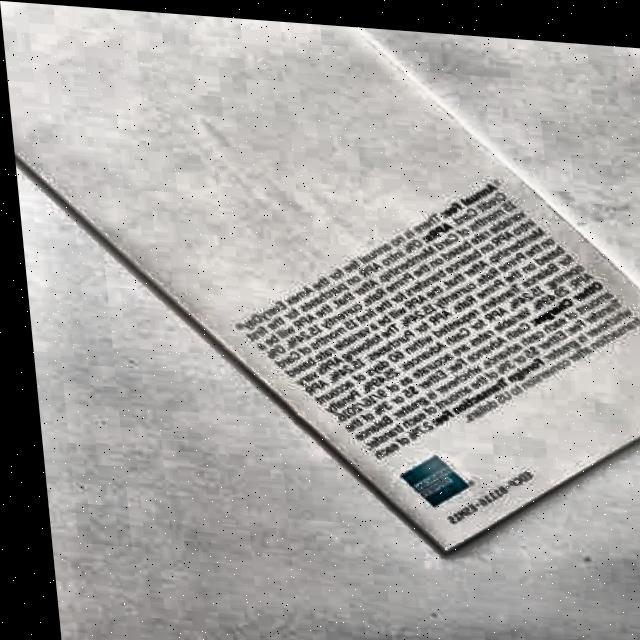paper: (0, 0, 640, 571)
